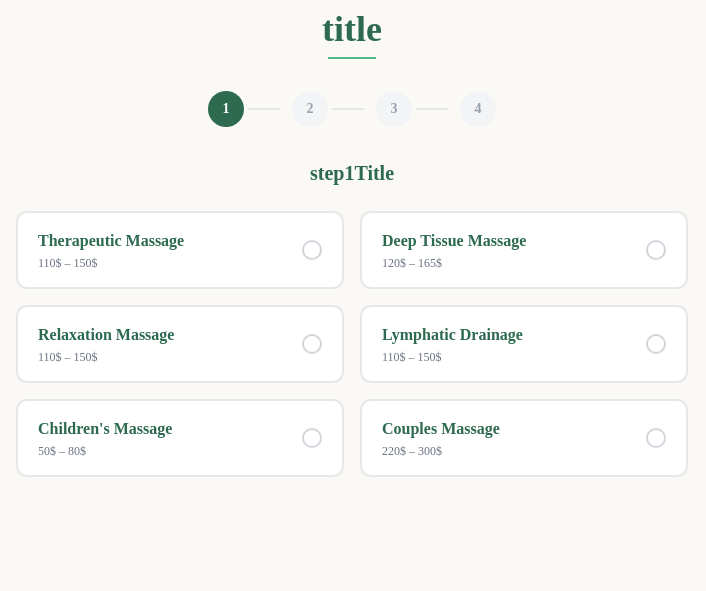
it: BookingWizard › 9. Deep Tissue Massage service card is present with duration options
Click the button with test id "service-card-deepTissue": (524, 250) [362, 213, 686, 287]
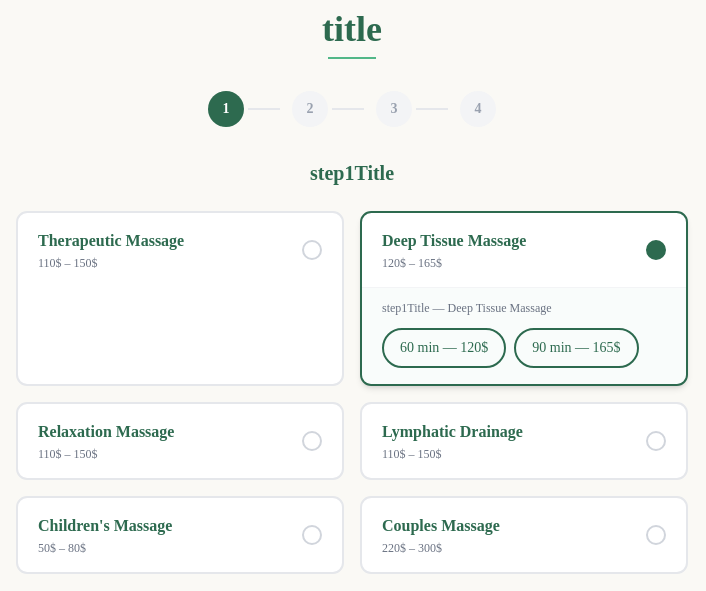
Check: the element with test id "duration-options-deepTissue" is shown, box [382, 328, 666, 368]
